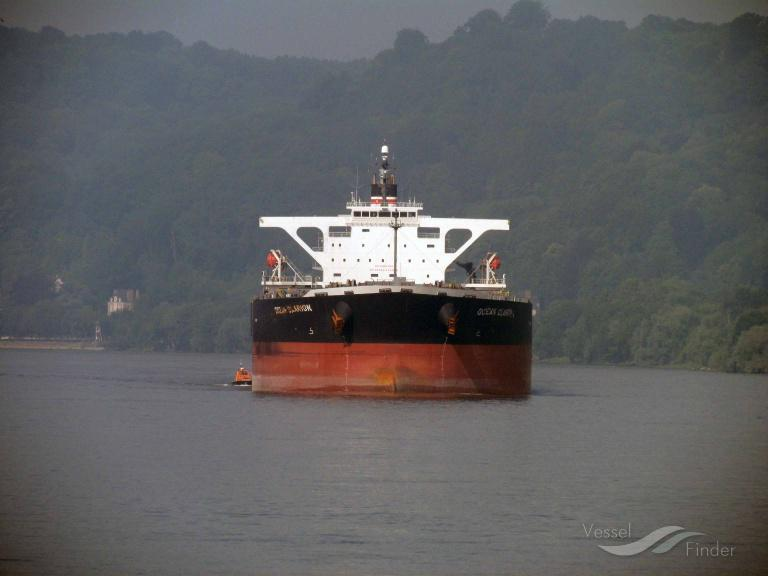OCR: (269, 304, 313, 324), (475, 303, 516, 323)
